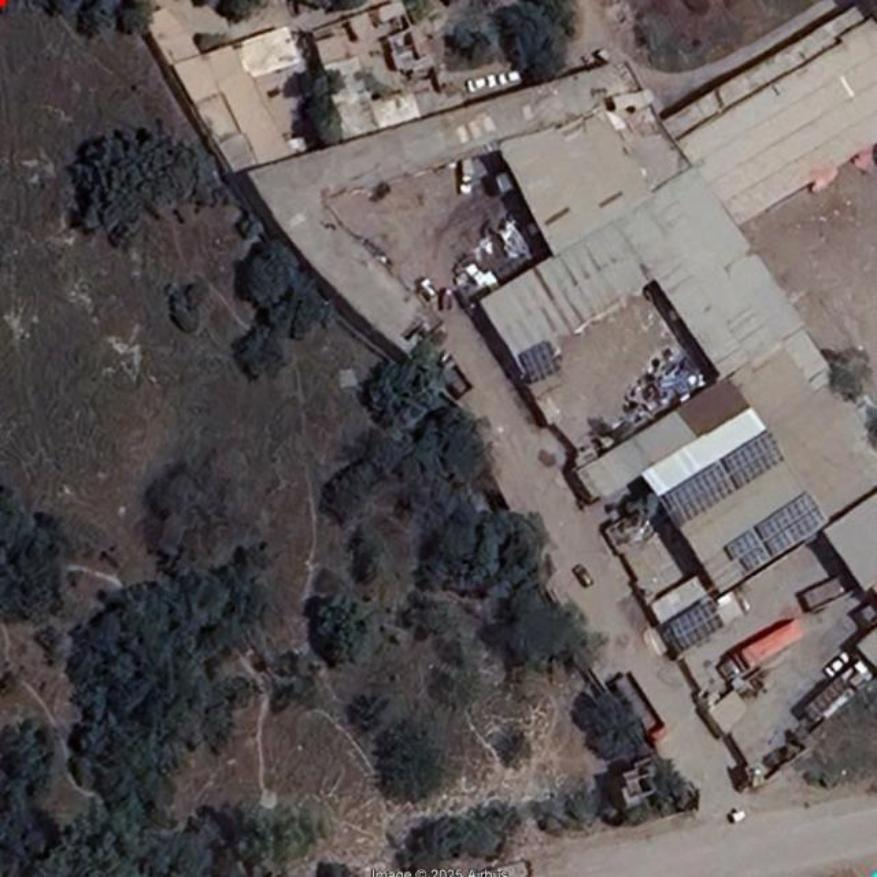Solarpanel: (661, 432, 784, 529), (723, 491, 825, 576), (670, 601, 723, 650), (523, 339, 557, 382)
